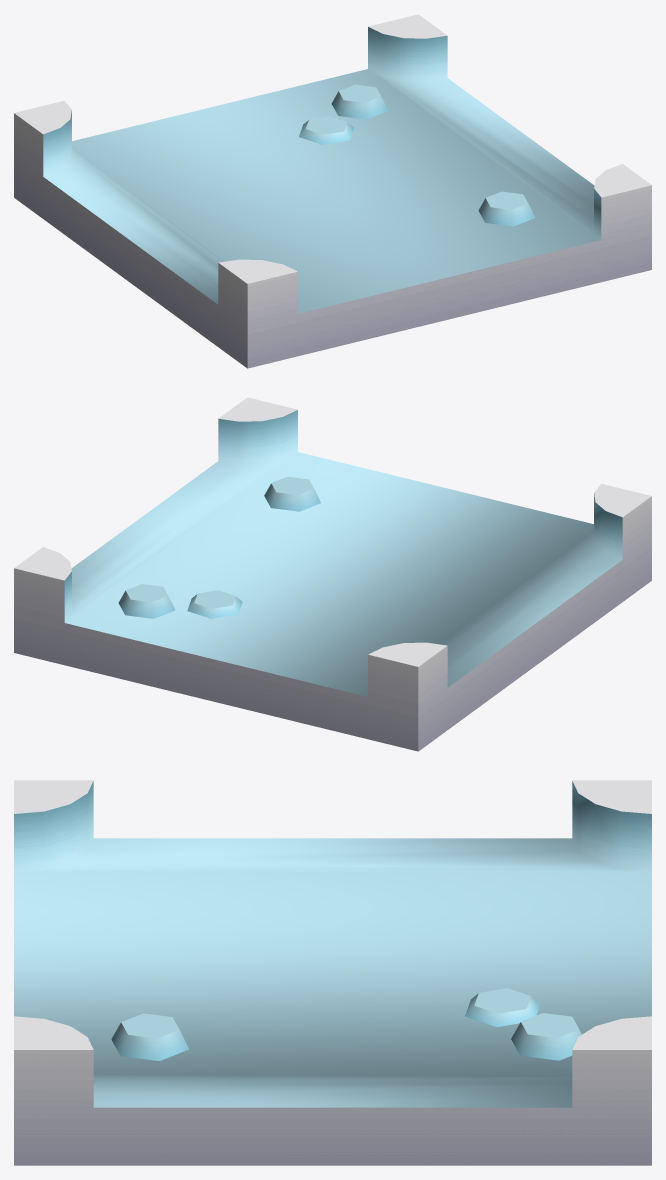
File: tower-defense-kit--snow-tile-crossing.glb
The picture shows the model from 3 angles, top to bottom: view 1: azimuth 30°, elevation 25°; view 2: azimuth 150°, elevation 25°; view 3: azimuth 270°, elevation 25°; orthographic projection. The views are drawn at different scales.
Visible parts, largest first — view 1: snow-tile-crossing; view 2: snow-tile-crossing; view 3: snow-tile-crossing.
Part boxes in pixels (x1=…): snow-tile-crossing: x1=14, y1=14, x2=651, y2=368; snow-tile-crossing: x1=14, y1=397, x2=651, y2=751; snow-tile-crossing: x1=14, y1=780, x2=651, y2=1165.
Size of the model in its own units: 1 by 0.2 by 1.
Materials: 1 (1 with a texture image).
